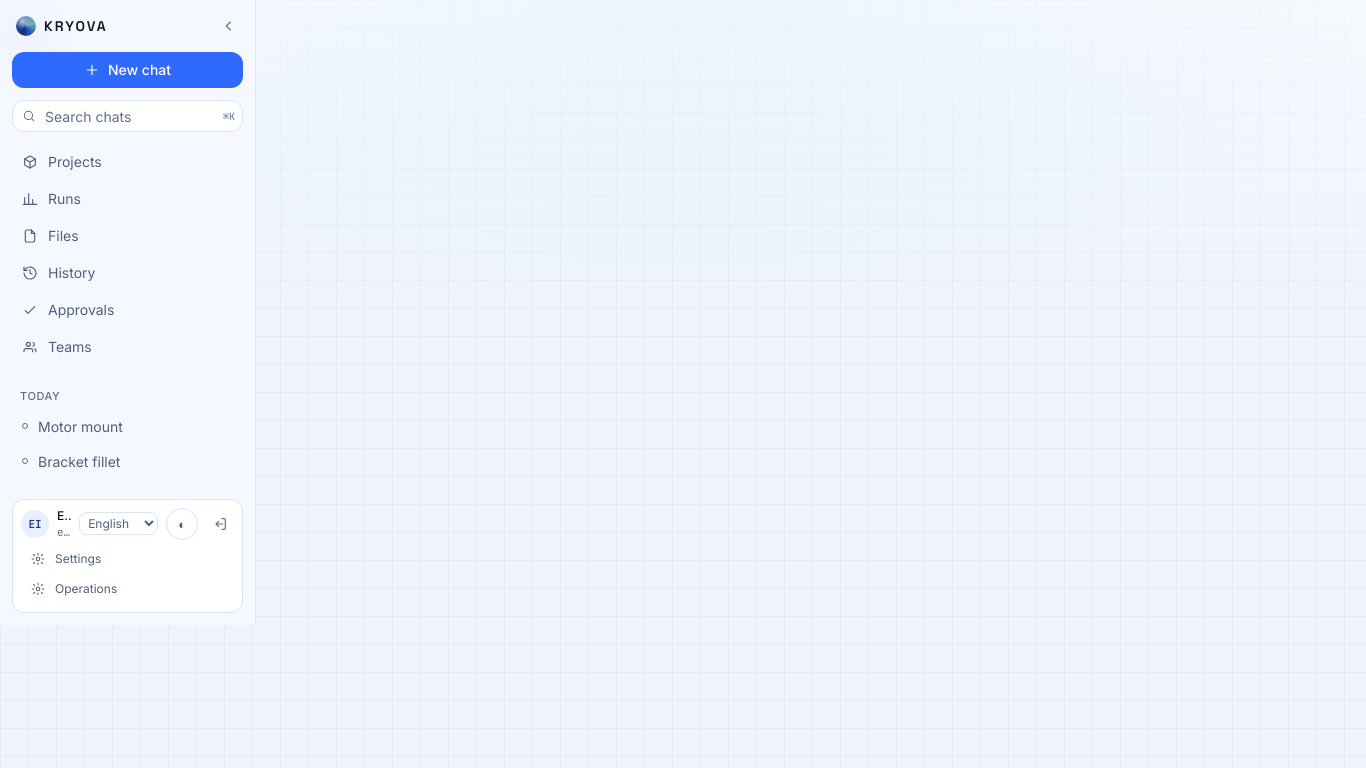
searching › asks the server from two characters, once typing pauses, and shows what it found
Type "m6" into the search field named "search conversations" at (128, 116), box [12, 100, 243, 132]
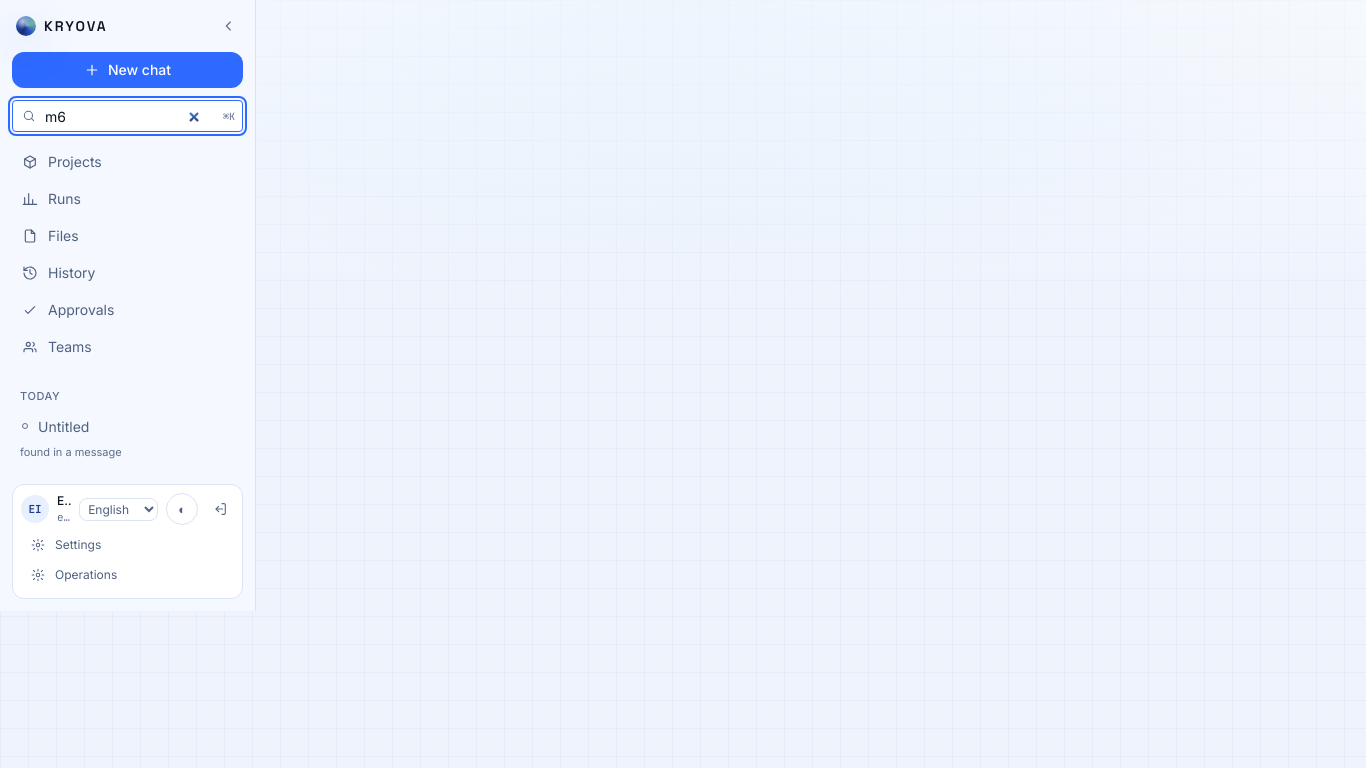
Check: the text "Untitled" is shown, box [38, 416, 89, 436]
Check: the text "found in a message" is shown, box [20, 444, 122, 458]
Check: the link "Motor mount" is gone
